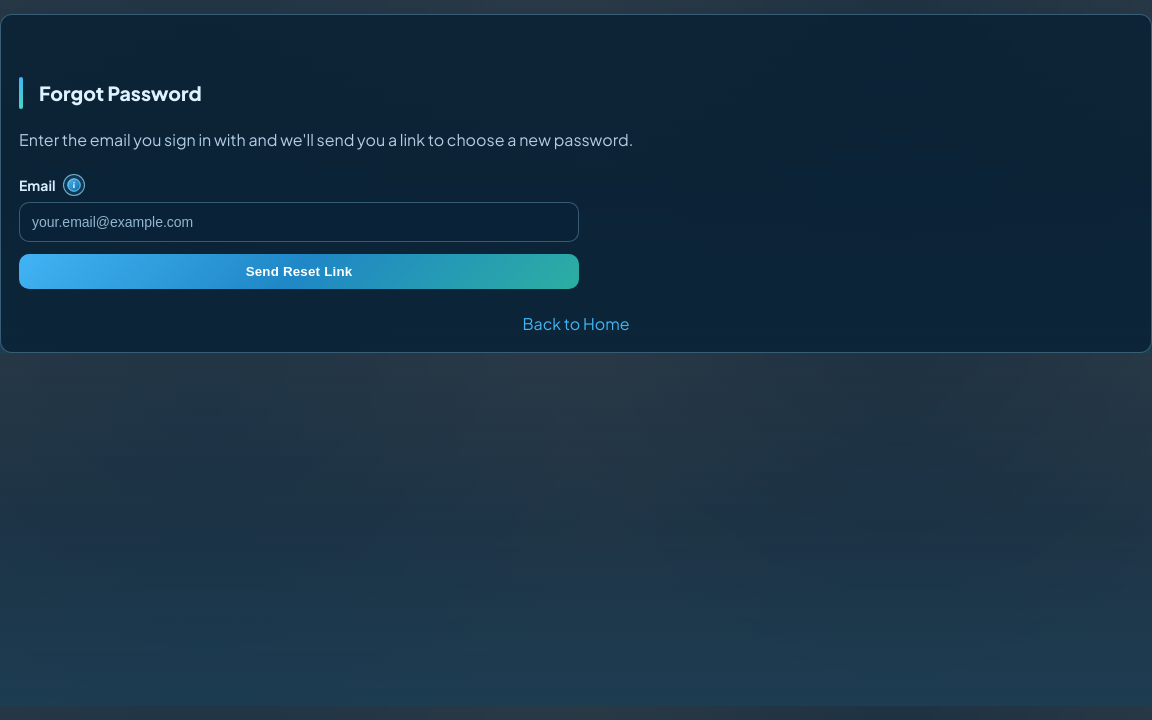
Test: ForgotPasswordPage › validates the email before sending
Type "sam@clinic" into the field labelled "Email". click: (299, 222)
box: left=19, top=202, right=579, bottom=242
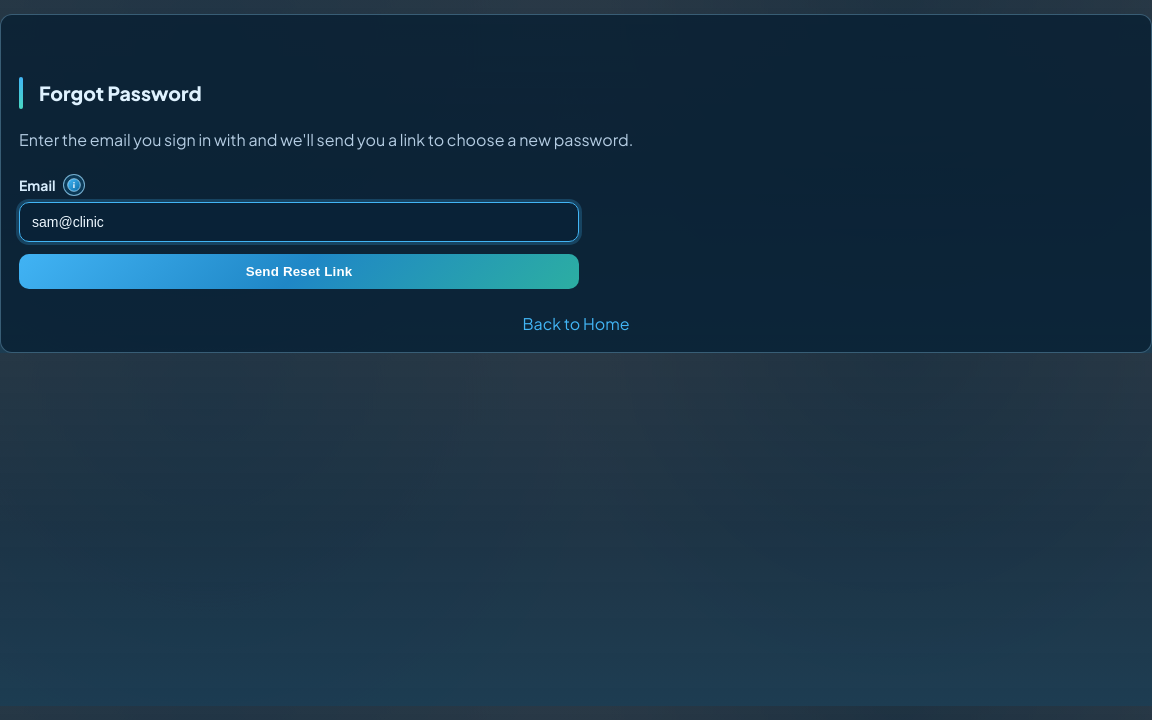
Click the button "Send Reset Link". click: (299, 272)
box: left=19, top=254, right=579, bottom=289
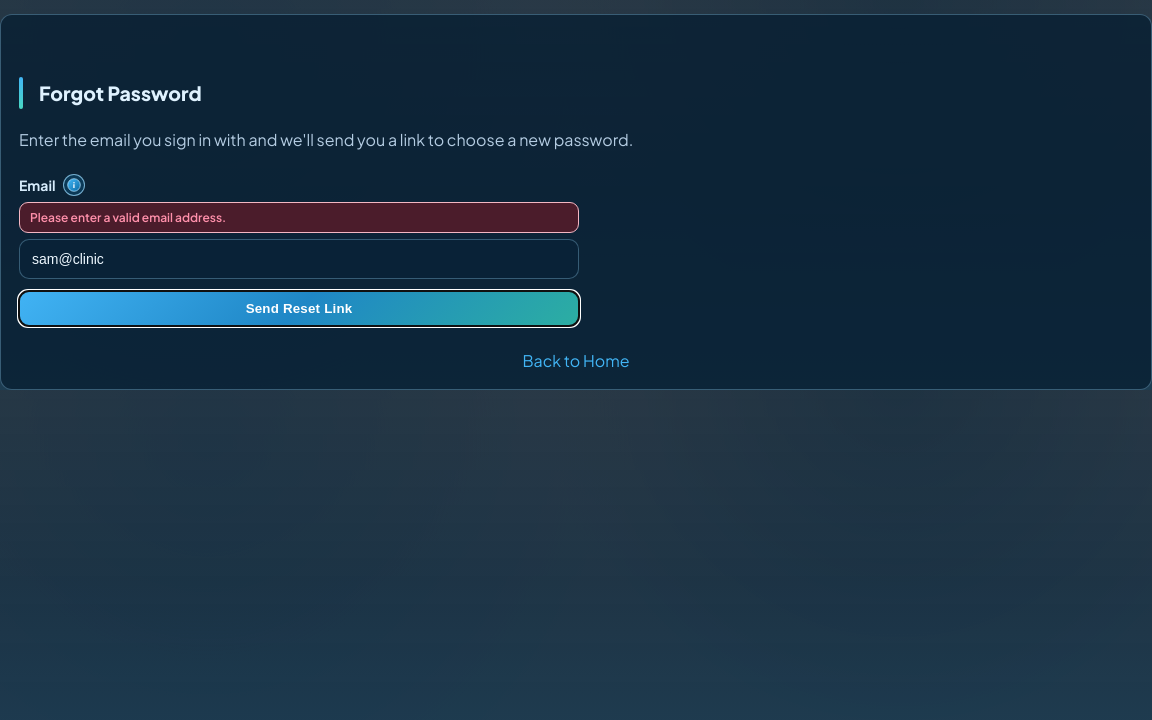
Result: the text "Please enter a valid email address." is shown at left=19, top=202, right=579, bottom=233
